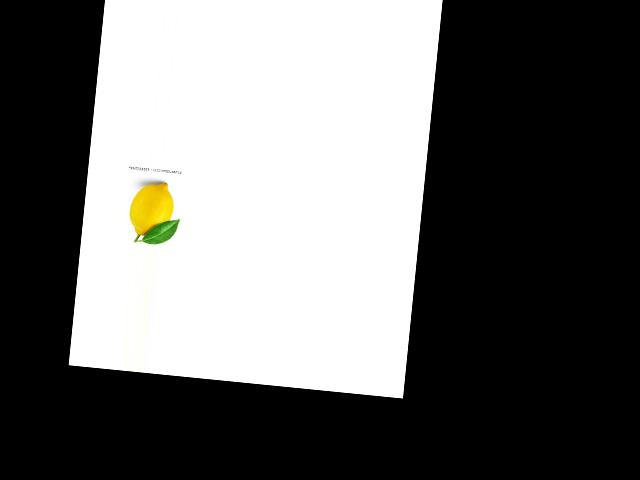lemon: (125, 179, 181, 241)
